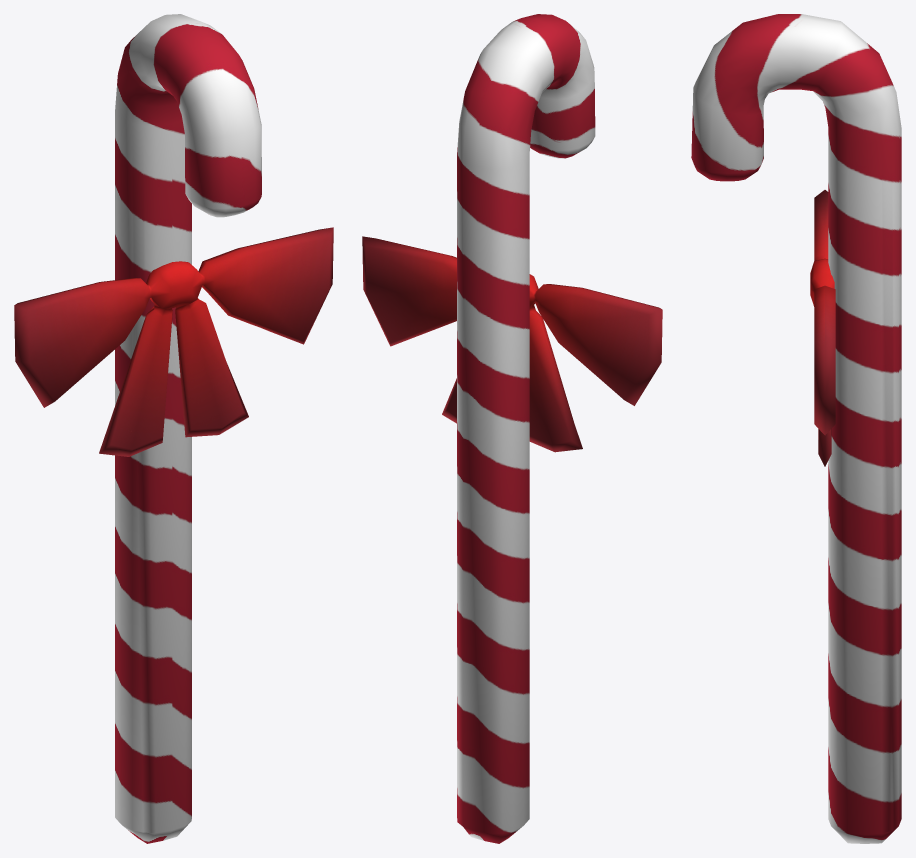
The model's file is Sugar Cane.FBX.
3 renders of one model, left to right at view 1: azimuth 30°, elevation 25°; view 2: azimuth 150°, elevation 25°; view 3: azimuth 270°, elevation 25°, orthographic. The views are drawn at different scales.
Visible parts, largest first — view 1: default; view 2: default; view 3: default.
Boxes of the visible parts, bbox=[...] form: default: bbox=[14, 14, 333, 843]; default: bbox=[362, 14, 662, 843]; default: bbox=[691, 14, 901, 843].
Bounding box in the file's own units: 18.78 × 10.92 × 46.98.
Materials: 1 (1 with a texture image).
